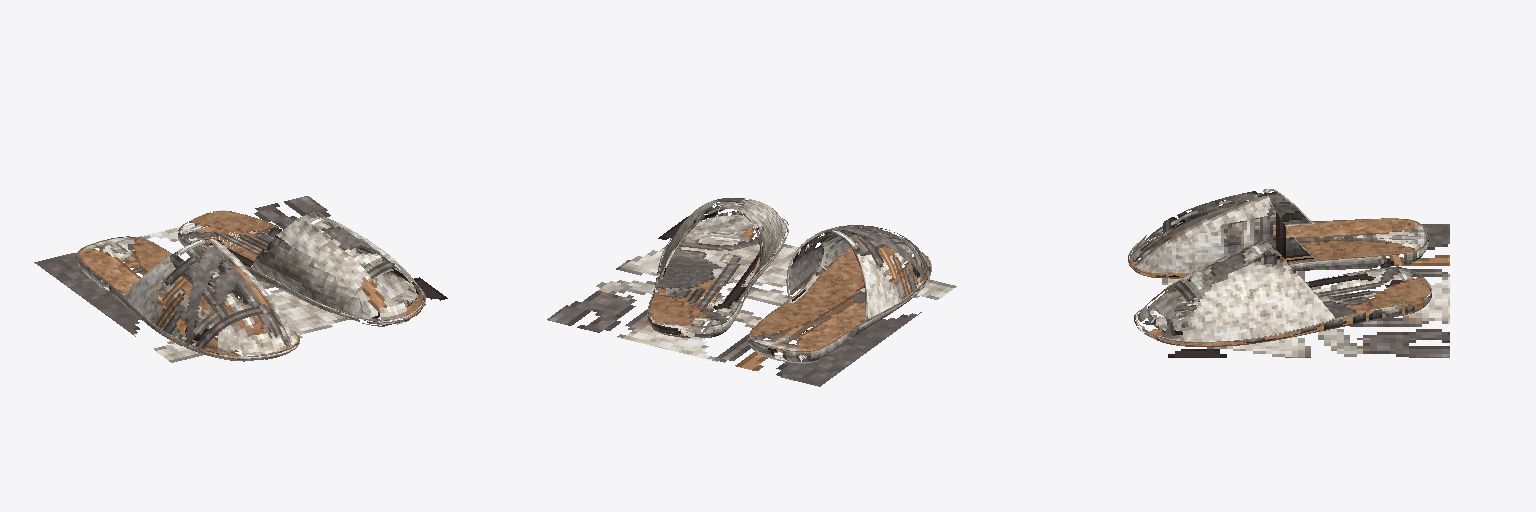
The picture shows the model from 3 angles: view 1: azimuth 30°, elevation 25°; view 2: azimuth 150°, elevation 25°; view 3: azimuth 270°, elevation 25°; orthographic projection.
Parts seen in each view (by area): view 1: solid_001, shadow, solid_003, solid_002; view 2: shadow, solid_003, solid_001, solid_002; view 3: solid_001, shadow, solid_003, solid_002.
Boxes of the visible parts, box(x1,y1,x2,y2) form: solid_001: box(123, 212, 422, 355); shadow: box(34, 196, 447, 362); solid_003: box(79, 211, 423, 355); solid_002: box(76, 210, 426, 361); shadow: box(547, 217, 956, 386); solid_003: box(649, 215, 929, 351); solid_001: box(659, 198, 928, 318); solid_002: box(647, 212, 931, 363); solid_001: box(1131, 189, 1336, 341); shadow: box(1162, 224, 1449, 357); solid_003: box(1130, 219, 1429, 341); solid_002: box(1128, 218, 1431, 346).
Size of the model in its own units: 0.3102 by 0.0763 by 0.3338.
Materials: 1 (1 with a texture image).